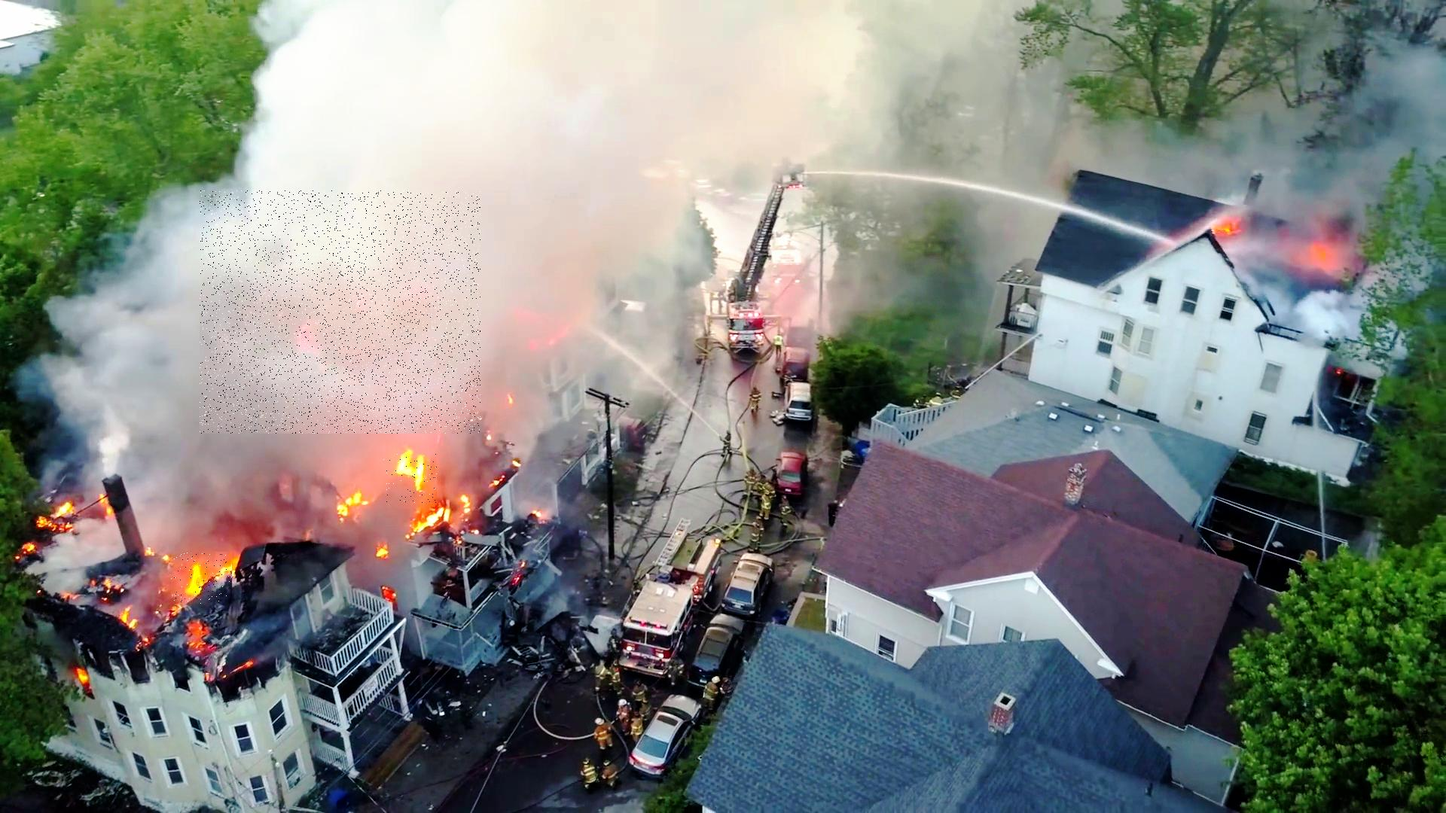fire: (171, 552, 232, 604), (382, 454, 437, 503)
smoke: (200, 191, 481, 434)
